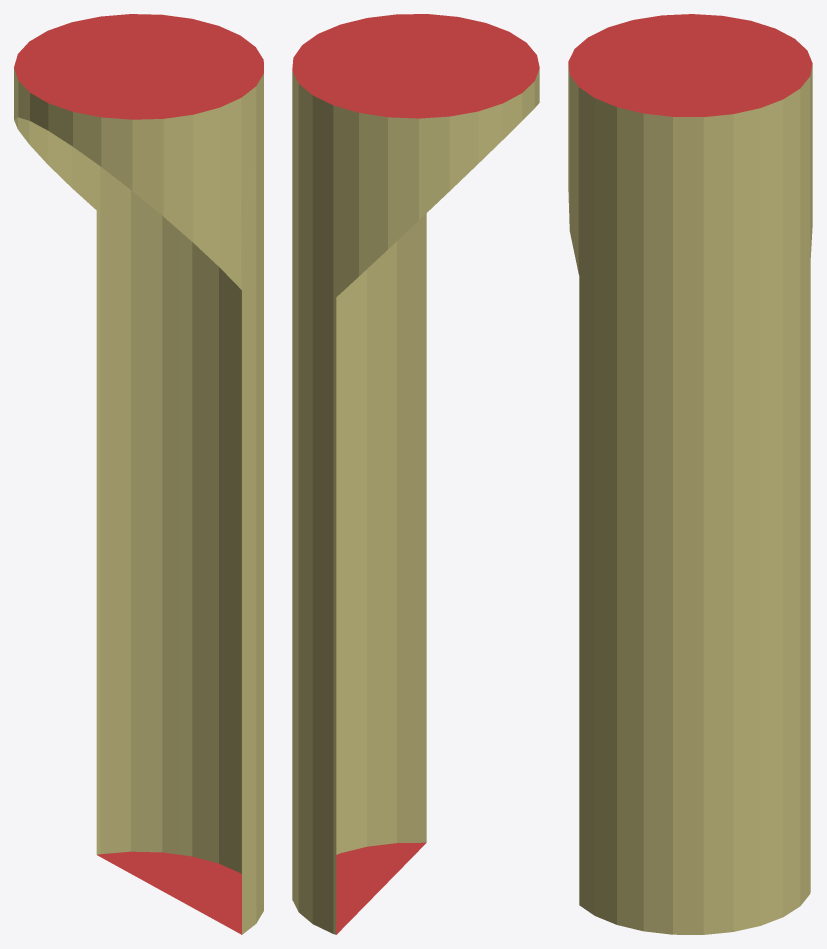
3 views of the same model, side by side, from view 1: azimuth 30°, elevation 25°; view 2: azimuth 150°, elevation 25°; view 3: azimuth 270°, elevation 25° (orthographic). The views are drawn at different scales.
Bounding box in the file's own units: 2.9 × 2.9 × 10.71.
